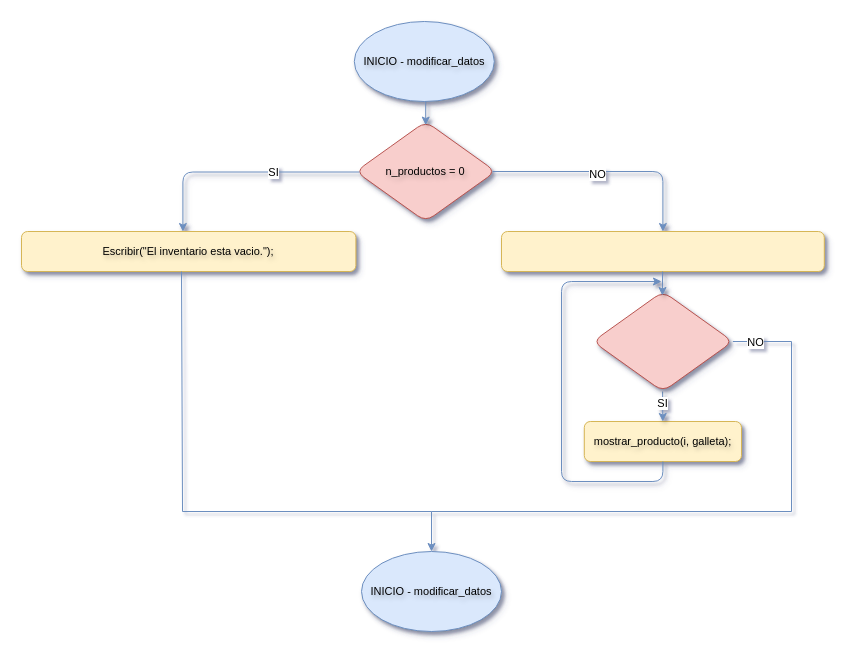
The diagram is 854 pixels wide and 662 high, and some of its shapes have lost their labels. Here are the shapes that lost their labels. From the top down, the centre of each, then its label:
point (663, 252): Escribir("************* Inventario *************");
point (663, 342): i < n_productos
